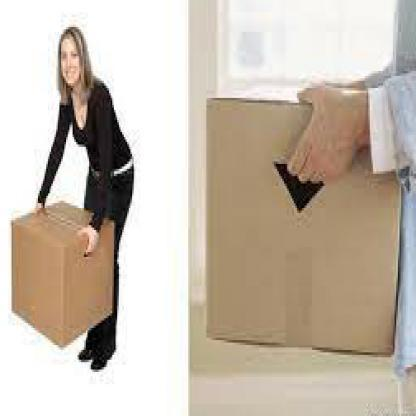box: (200, 91, 403, 363), (7, 201, 116, 348)
